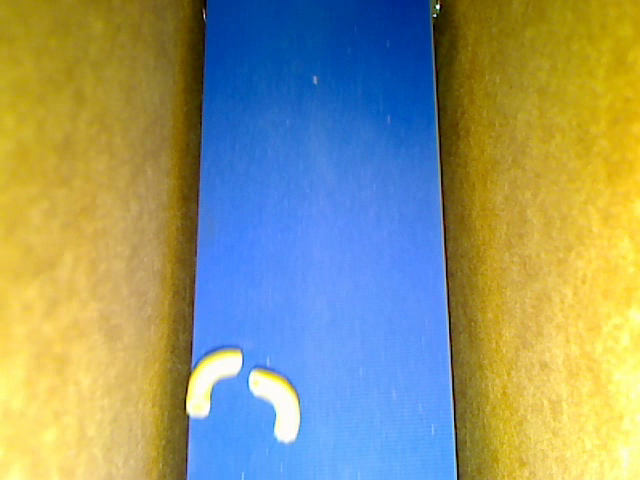elbow: (185, 347, 243, 420), (247, 367, 300, 443)
